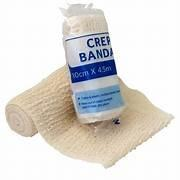Bandage: (6, 5, 171, 166), (6, 67, 171, 166), (62, 4, 124, 122)
cotton: (6, 66, 171, 166)
